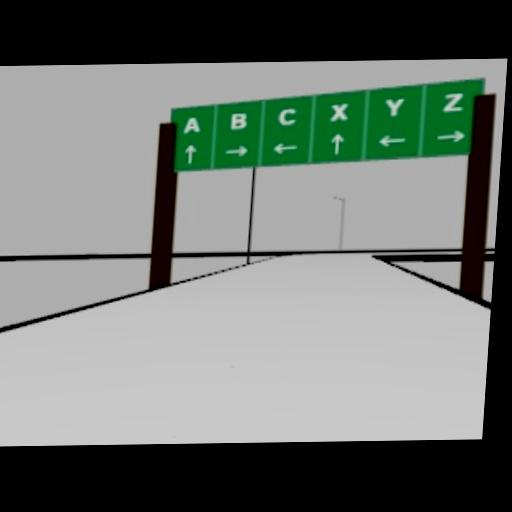A: (181, 115, 200, 133)
B: (231, 111, 247, 128)
C: (277, 107, 297, 124)
Left: (376, 133, 406, 145), (271, 141, 298, 154)
Right: (436, 128, 466, 140), (223, 143, 250, 156)
Straight: (330, 131, 345, 152), (183, 142, 196, 162)
X: (328, 101, 348, 121)
Y: (383, 96, 404, 116)
Z: (441, 91, 464, 110)
